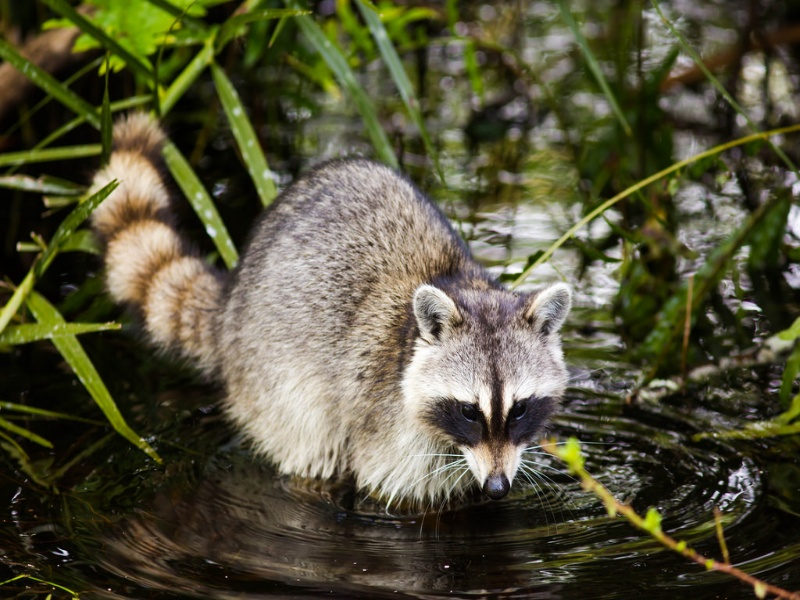raccoon: (77, 105, 581, 505)
